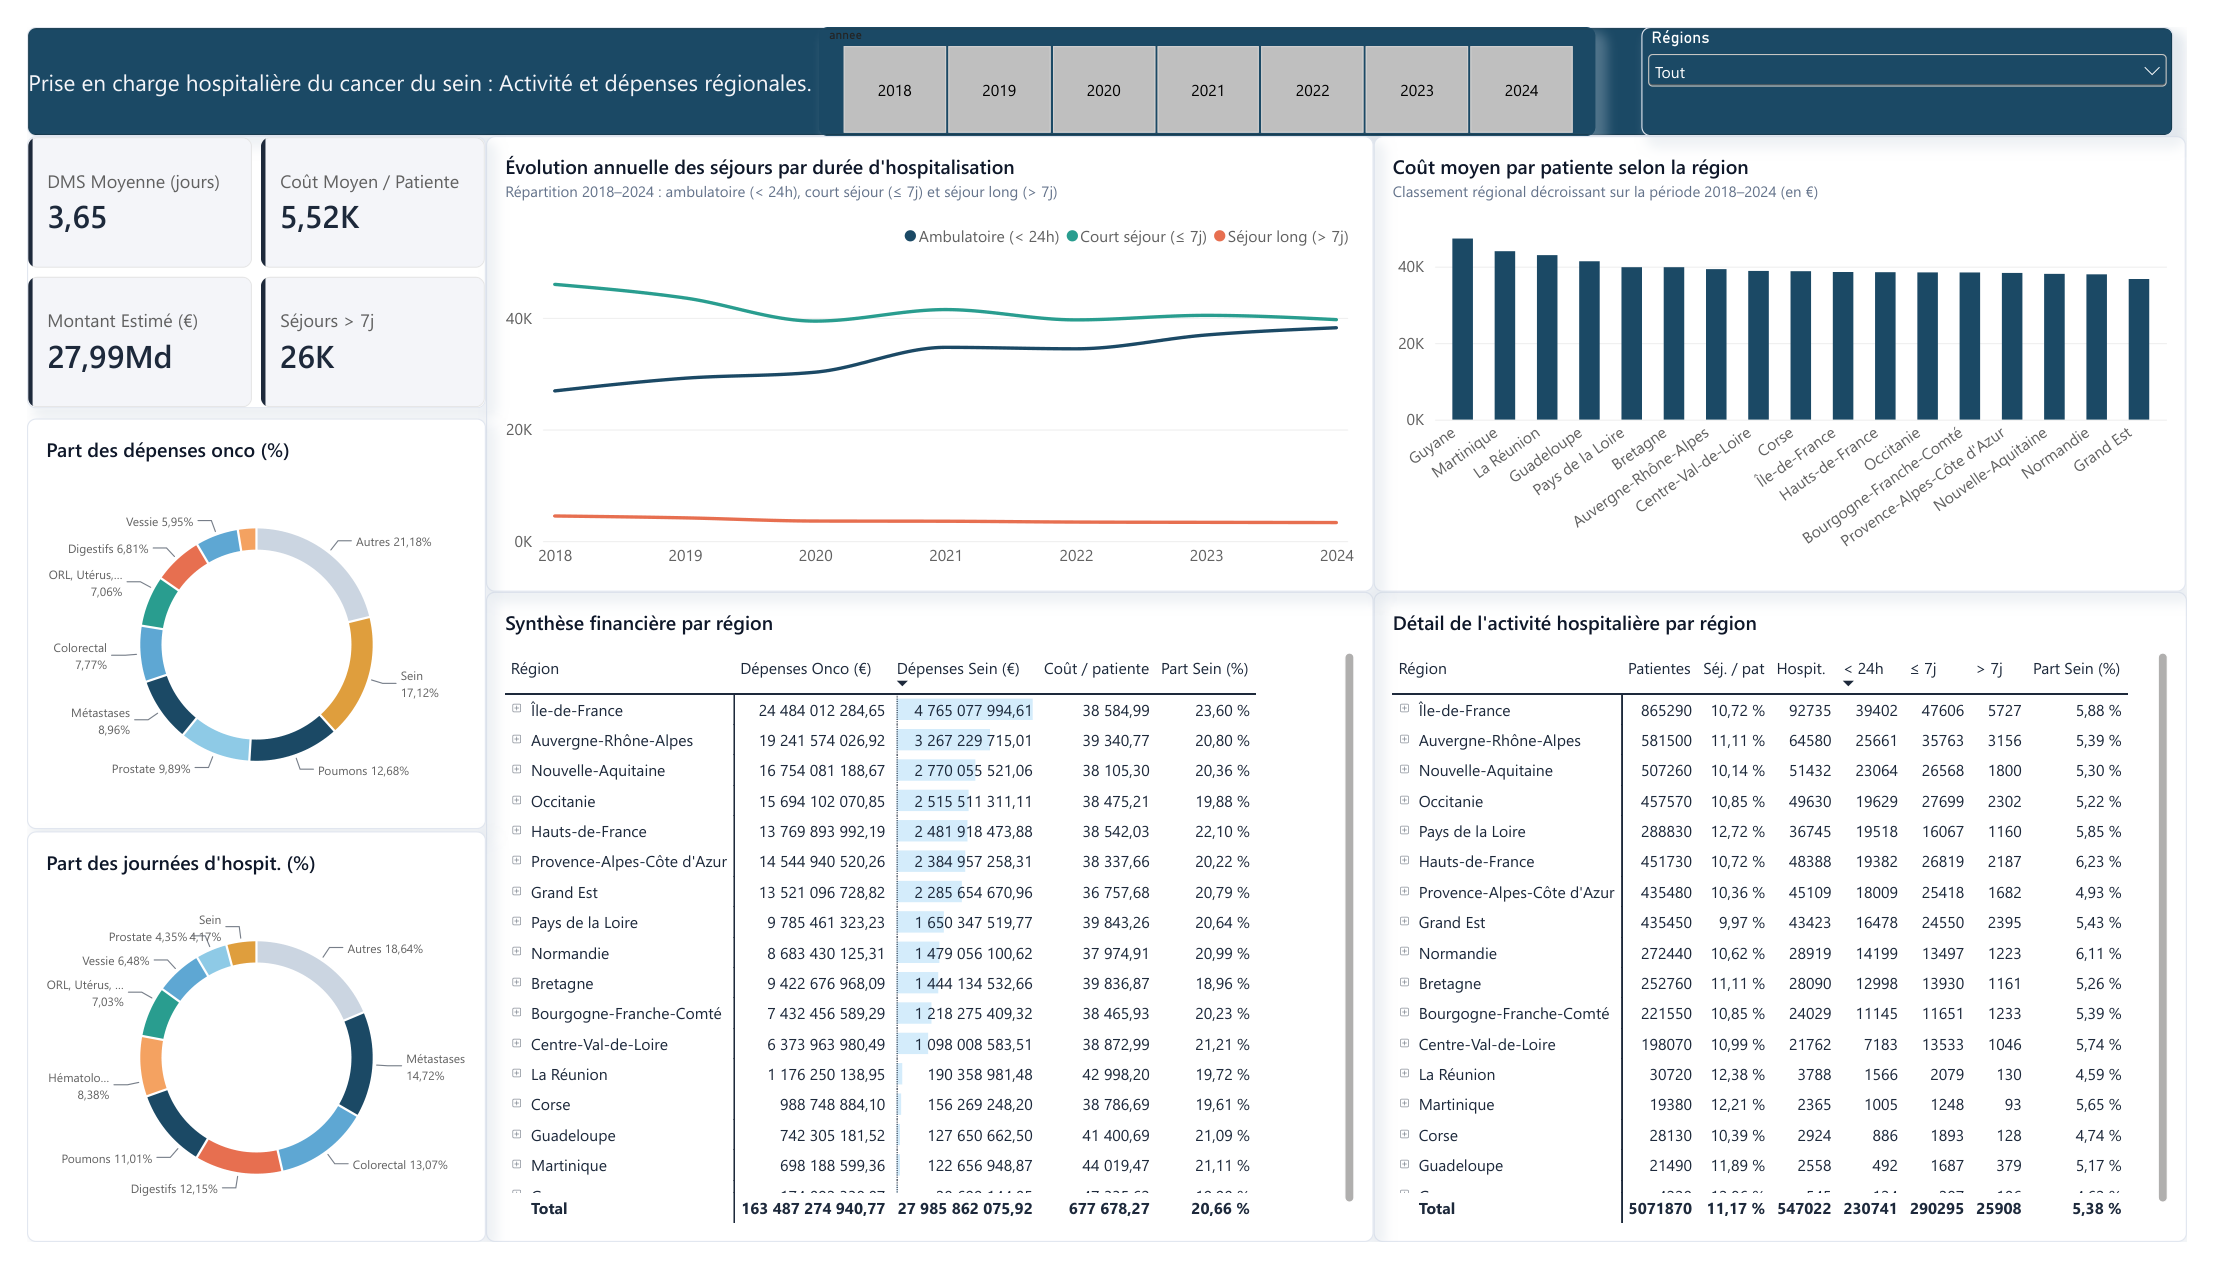

The page's visual inventory and layout, read from the dashboard file:
{"tool":"powerbi","page":{"name":"Prise en charge hospitalière du cancer du sein : Activité et dépenses régionales","canvas":[1920,1080],"ordinal":0},"visuals":[{"type":"shape","box":[0,0,1908.5,97.2],"z":0},{"type":"slicer","fields":{"Values":["DIM_annee.annee"]},"box":[704.3,0,689.9,96.5],"z":1000},{"type":"pivotTable","title":"Détail de l''activité hospitalière par région","fields":{"Rows":["FACT_charge_hospitaliere_sein.libelle_region","DIM_annee.annee"],"Values":["Sum(FACT_charge_hospitaliere_sein.nb_patientes)","Avg(FACT_charge_hospitaliere_sein.taux_sejours_par_patiente)","Sum(FACT_charge_hospitaliere_sein.nbre_hospitalisation)","Sum(FACT_charge_hospitaliere_sein.nb_sejours_moins_24h)","Sum(FACT_charge_hospitaliere_sein.nb_sejours_inf_ou_egal_7j)","Sum(FACT_charge_hospitaliere_sein.nb_sejours_sup_7j)","Avg(FACT_charge_hospitaliere_sein.ratio_cancer_sein_patho_onco)"]},"box":[1196.7,502.2,723.3,578],"z":2000},{"type":"pivotTable","title":"Synthèse financière par région","fields":{"Rows":["DIM_regions.libelle_region","DIM_annee.annee"],"Values":["_Mesures.Dépenses Onco Toutes Spécialités (€)","Sum(FACT_depenses_regionales_sein.montant_euros)","Sum(FACT_depenses_regionales_sein.cout_moyen_par_patiente_euros)","Avg(FACT_depenses_regionales_sein.ratio_cancer_sein_patho_onco)"]},"box":[408.1,502.2,788.5,578],"z":3000},{"type":"clusteredColumnChart","title":"Coût moyen par patiente selon la région","fields":{"Category":["DIM_regions.libelle_region"],"Y":["Sum(FACT_depenses_regionales_sein.cout_moyen_par_patiente_euros)"]},"box":[1196.7,97.2,722.3,404.9],"z":4000},{"type":"lineChart","title":"Évolution annuelle des séjours par durée d''hospitalisation","fields":{"Category":["DIM_annee.annee"],"Y":["_Mesures.Séjours < 24h","_Mesures.Séjours 7j ou moins","_Mesures.Séjours > 7j"]},"box":[408.1,97.2,788.5,404.9],"z":5000},{"type":"slicer","fields":{"Values":["DIM_regions.libelle_region"]},"box":[1435.2,0,473.3,97.2],"z":6000},{"type":"cardVisual","fields":{"Data":["_Mesures.DMS Moyenne (jours)","_Mesures.Coût Moyen / Patiente","_Mesures.Montant Estimé (€)","_Mesures.Séjours > 7j"]},"box":[0,97.2,408.1,241.5],"z":7000},{"type":"donutChart","title":"Part des dépenses onco (%)","fields":{"Category":["mart_oncologie_depenses_charge_region.specialite_oncologique"],"Y":["_Mesures.Part Dépenses Spécialité Onco (%)"]},"box":[0,348.3,408.1,365],"z":7001},{"type":"donutChart","title":"Part des journées d''hospit. (%)","fields":{"Category":["mart_oncologie_depenses_charge_region.specialite_oncologique"],"Y":["_Mesures.Part Journées Spécialité Onco (%)"]},"box":[0,714.8,408.1,365],"z":7002}]}

Visuals, with their boxes in screenshot pixels (x1, y1, x2, y2), scaled from the page's 1920x1080 canvas onto the 2214x1269 screenshot:
shape: [left=0, top=0, right=2201, bottom=114]
slicer - DIM_annee.annee: [left=812, top=0, right=1608, bottom=113]
"Détail de l''activité hospitalière par région" pivotTable: [left=1380, top=590, right=2213, bottom=1268]
"Synthèse financière par région" pivotTable: [left=471, top=590, right=1380, bottom=1268]
"Coût moyen par patiente selon la région" clusteredColumnChart: [left=1380, top=114, right=2213, bottom=590]
"Évolution annuelle des séjours par durée d''hospitalisation" lineChart: [left=471, top=114, right=1380, bottom=590]
slicer - DIM_regions.libelle_region: [left=1655, top=0, right=2201, bottom=114]
cardVisual - _Mesures.DMS Moyenne (jours) x _Mesures.Coût Moyen / Patiente: [left=0, top=114, right=471, bottom=398]
"Part des dépenses onco (%)" donutChart: [left=0, top=409, right=471, bottom=838]
"Part des journées d''hospit. (%)" donutChart: [left=0, top=840, right=471, bottom=1268]
